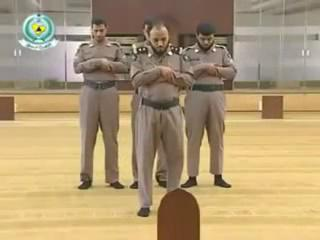qiyam: (130, 19, 186, 219), (73, 15, 127, 193), (183, 21, 237, 191)
